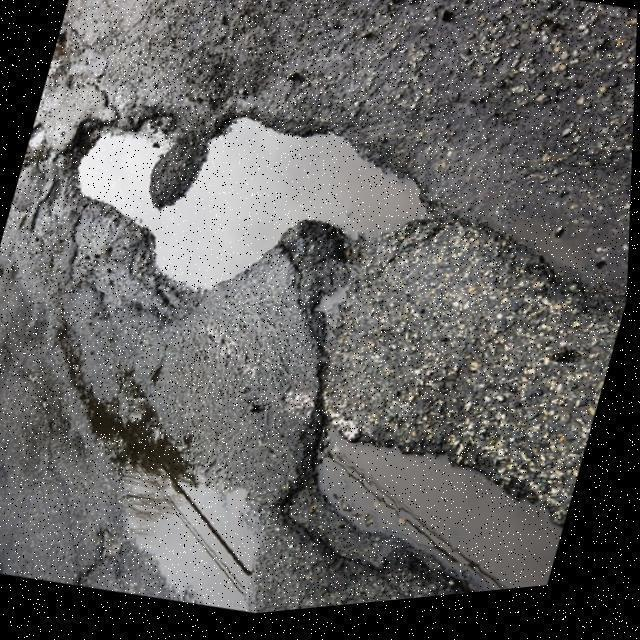Pothole: (49, 92, 460, 313), (263, 396, 579, 600)
